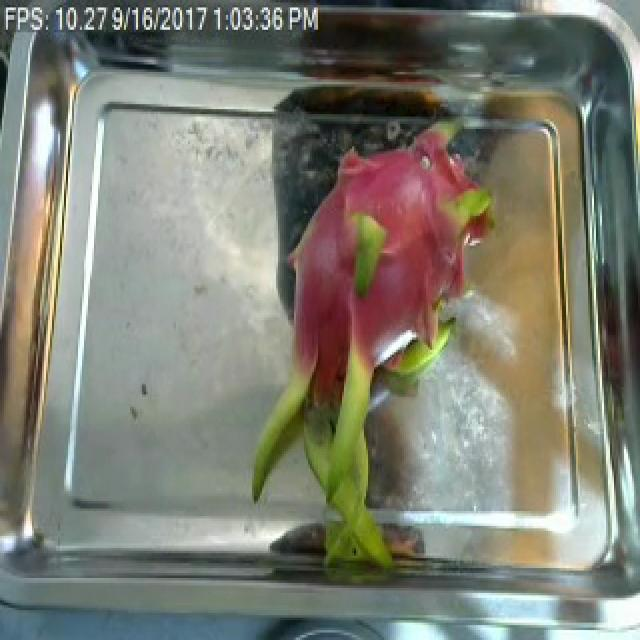fruit: (240, 132, 488, 558)
